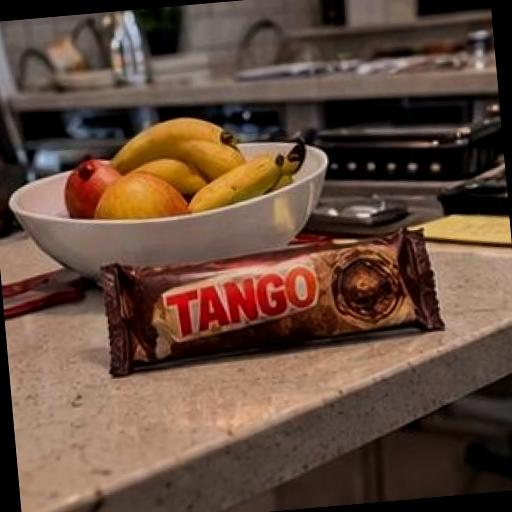tango: (92, 160, 451, 410)
